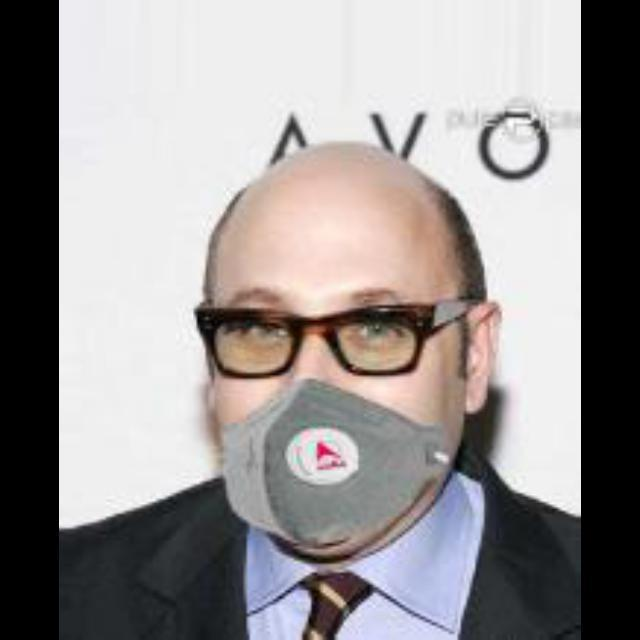suspicion: (183, 129, 482, 545)
